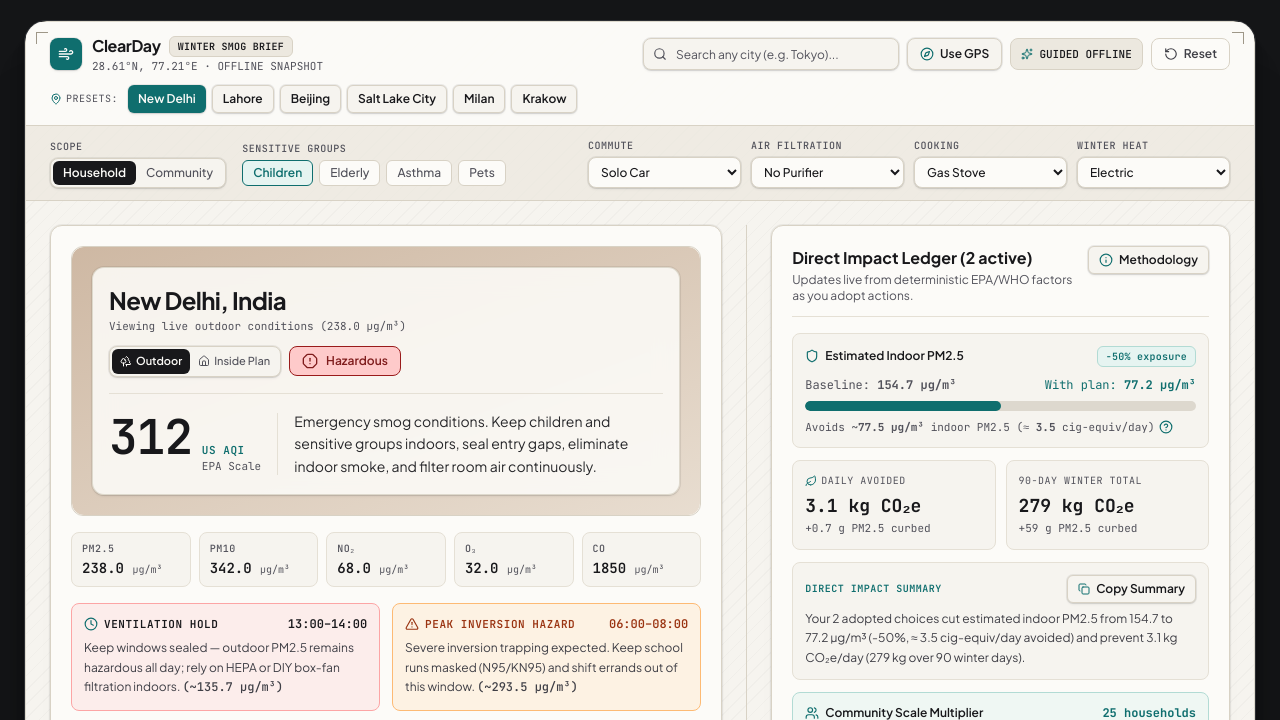
Test: ClearDayWorkspace UI flows › recovers cleanly from corrupt localStorage and resets preferences + adopted actions
Later steps or results of the test are not shown.
Click the button "Community".
click(180, 172)  # box [136,160,223,184]
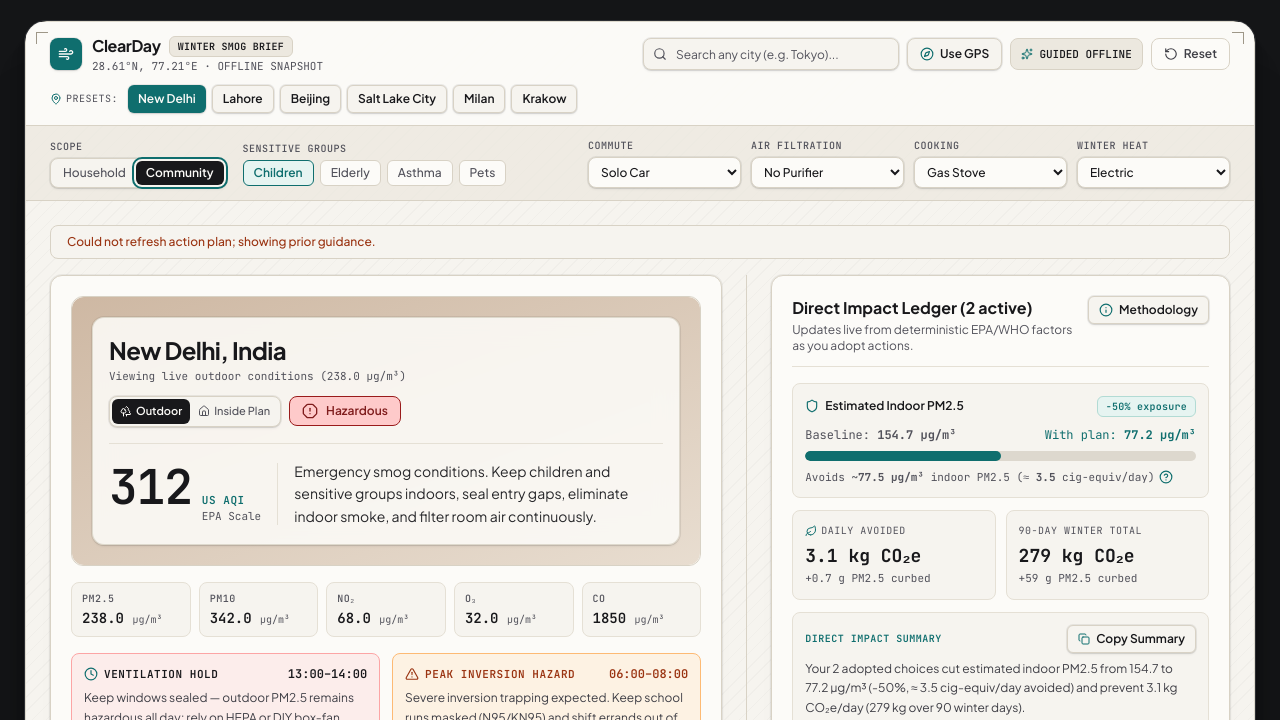
Check: the button "Community" is pressed, box [136,160,224,184]
